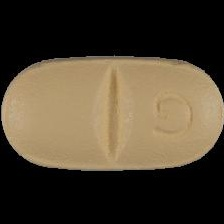64725-0137: (0, 0, 224, 224)
